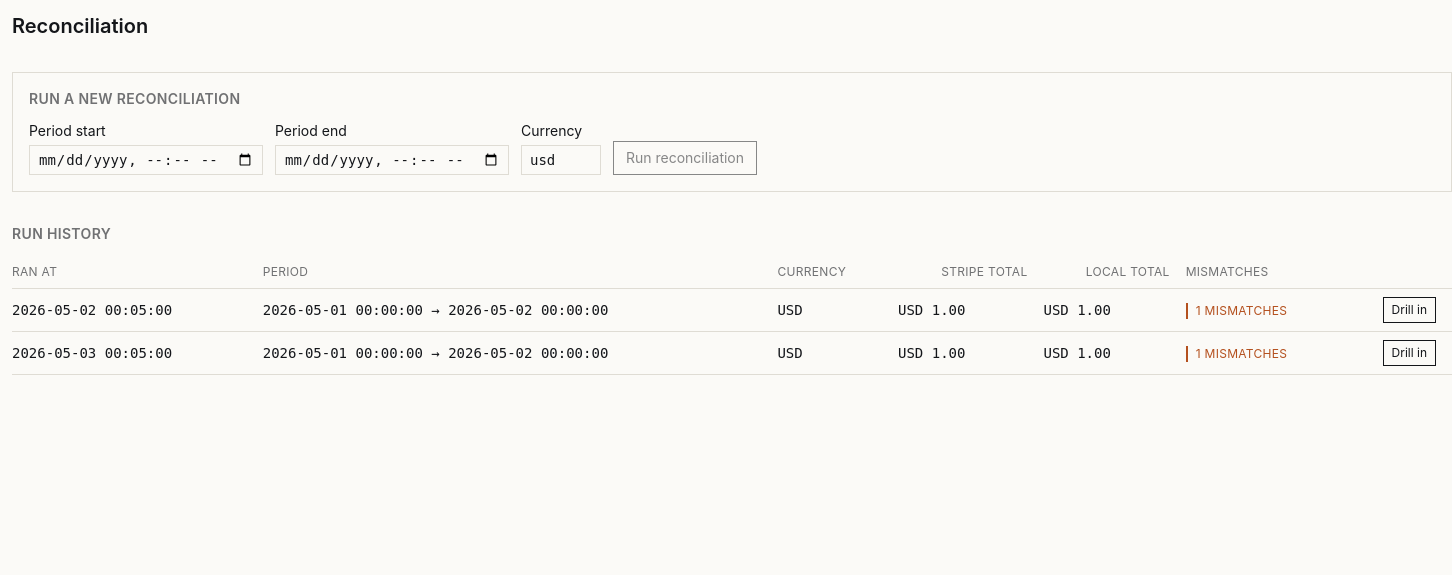
it: ReconciliationPage drill-in race › discards a stale drill-in response that resolves after a newer drill-in was clicked
Step 1. Click the button "Drill in" in the row of "2026-05-02 00:05:00" → (1409, 310), box [1383, 297, 1436, 323]
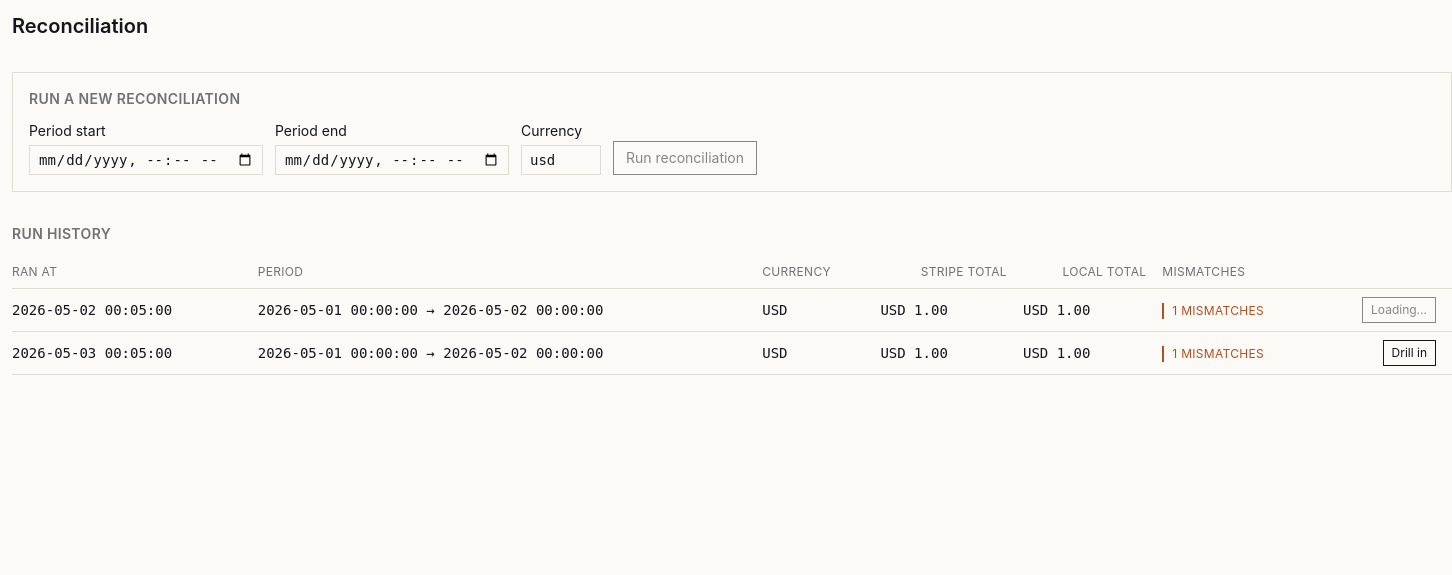
# Click run_b's "Drill in" before run_a's response has landed.
Step 2. Click the button "Drill in" → (1409, 353), box [1383, 340, 1436, 366]
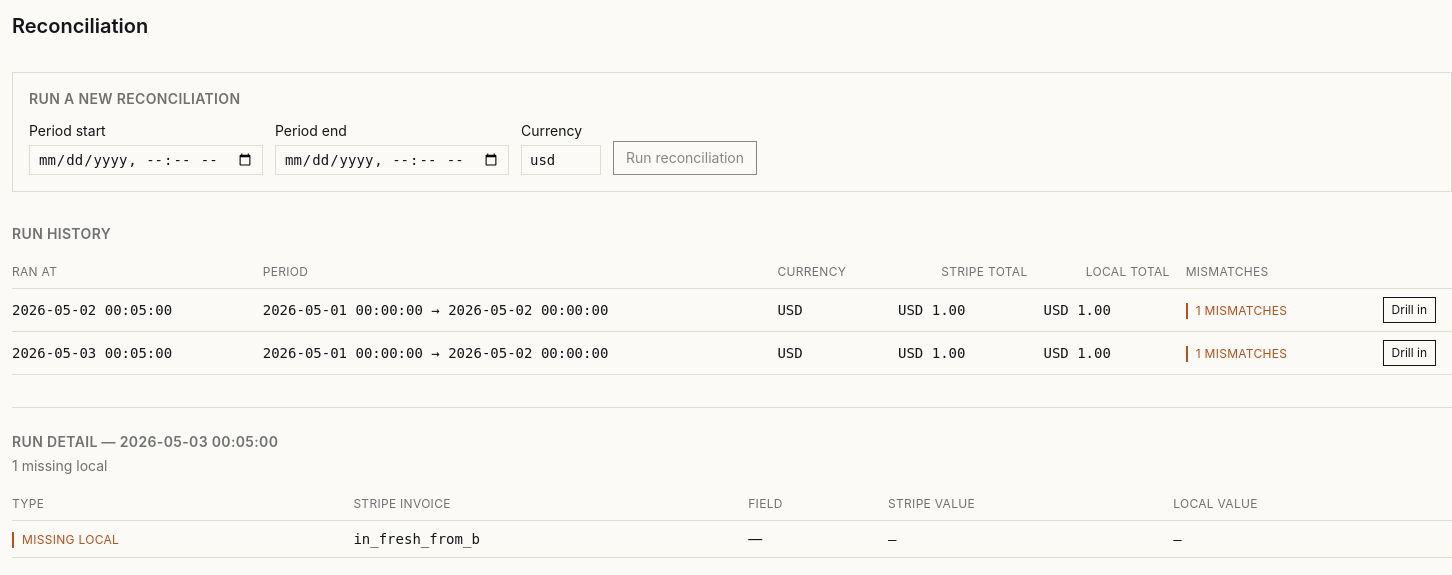
Result: no buttons "Loading…" are shown
Result: the text "in_fresh_from_b" is shown at [353, 520, 748, 558]
